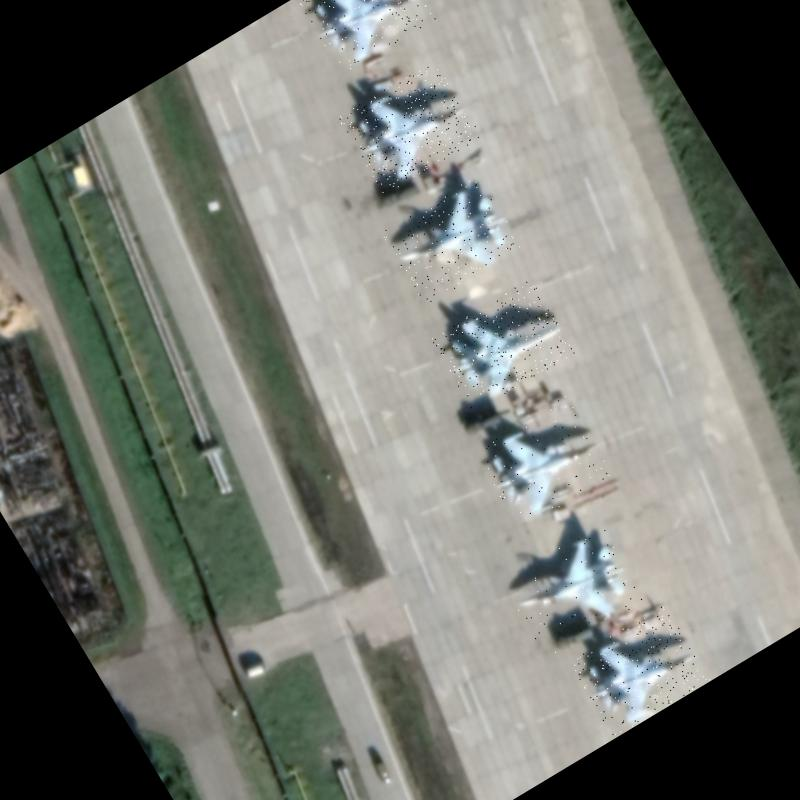A1: (337, 58, 482, 195), (501, 521, 646, 658), (430, 278, 576, 412), (472, 394, 614, 530), (567, 603, 710, 737), (380, 173, 523, 306), (296, 0, 436, 75)
